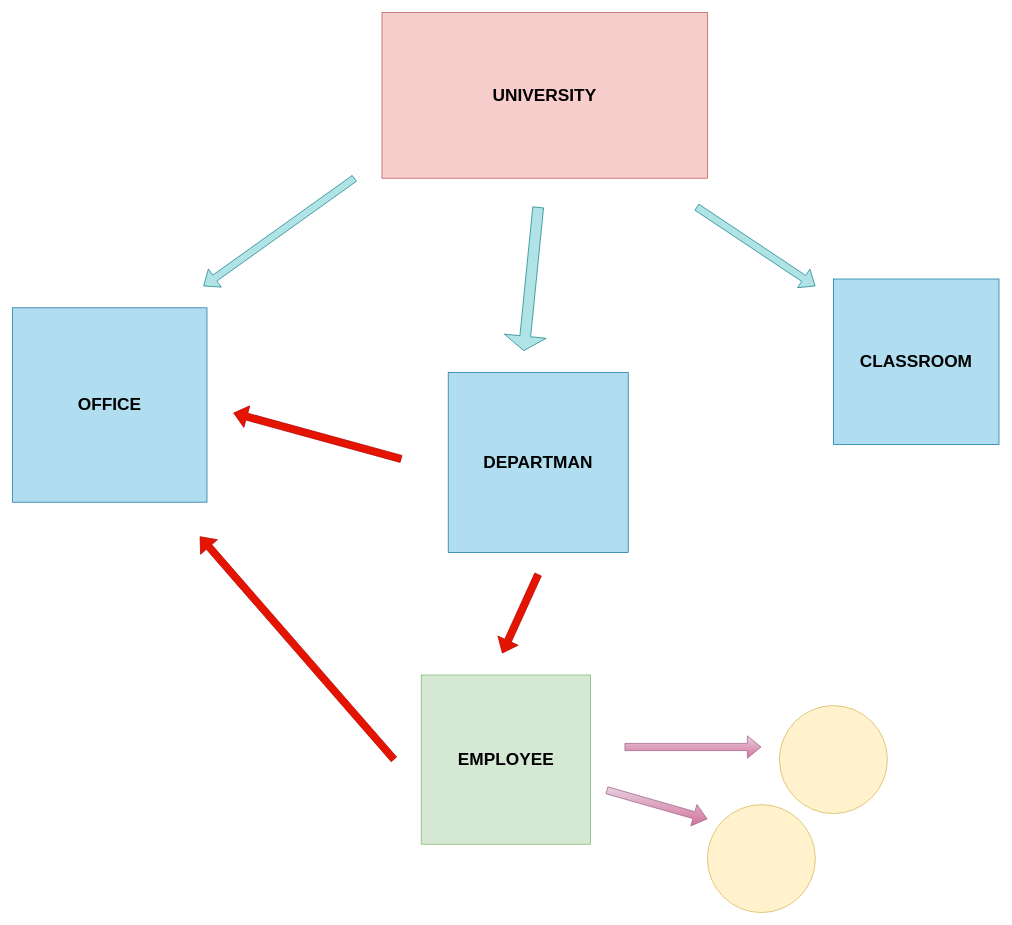
Some shapes in this 1012 by 925 pixel diagram are drawn without their labels. Each missing label, with the centre of its shape:
"OFFICER" belongs at (833,759).
"PROFESSOR" belongs at (761,858).
